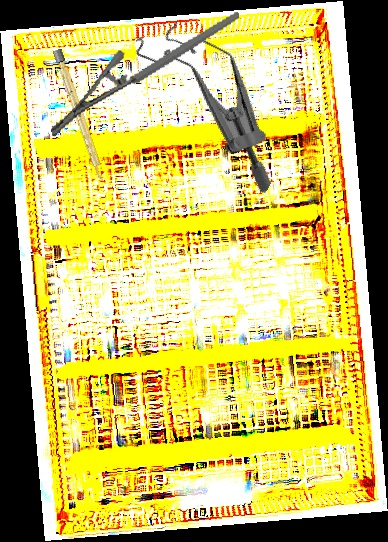Needle Holder: (34, 11, 257, 138)
Scalpel Handle: (52, 48, 107, 183)
Speculum: (99, 6, 319, 197)
